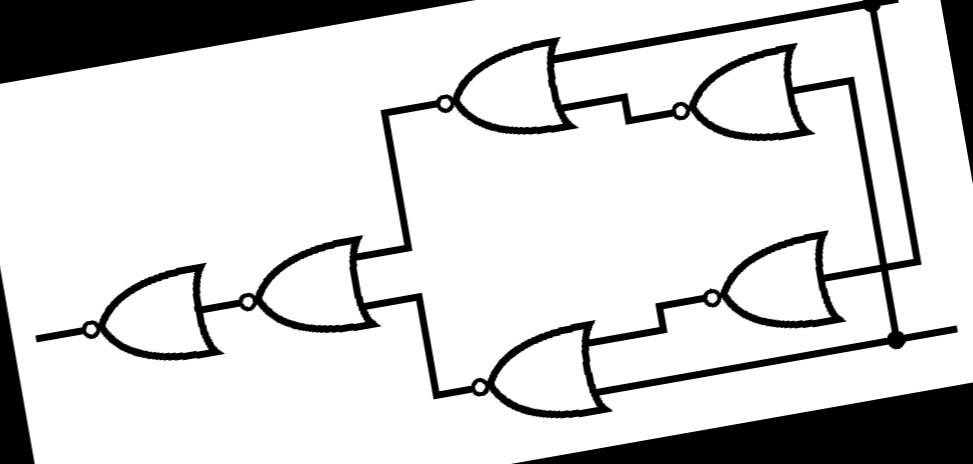nor: (417, 24, 587, 161), (449, 310, 621, 444), (222, 224, 390, 360)
